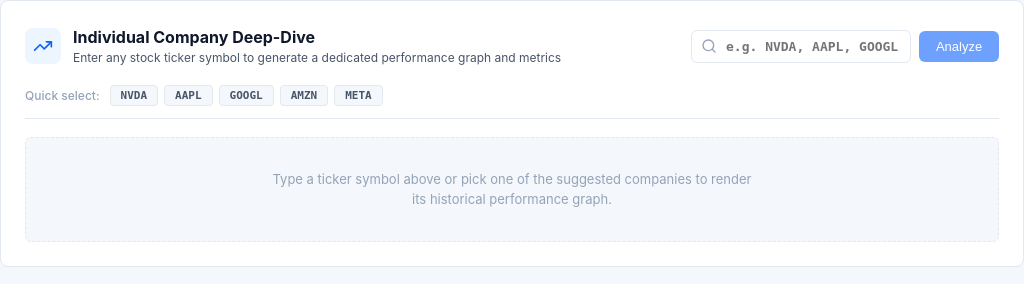
it: CustomCompanyExplorer › shows clear no-data error message when an invalid symbol is entered
Type "XYZNOTFOUND" into the field with placeholder "e.g. NVDA, AAPL, GOOGL". click: (801,46)
box: [691, 30, 911, 62]
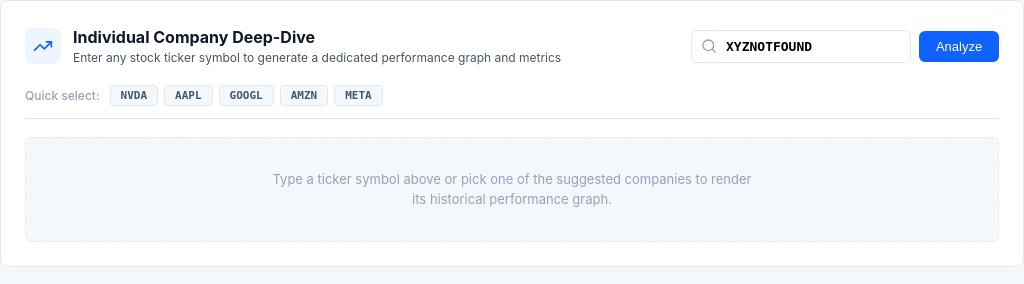
Click the button "Analyze". click: (959,46)
box: [919, 30, 999, 62]
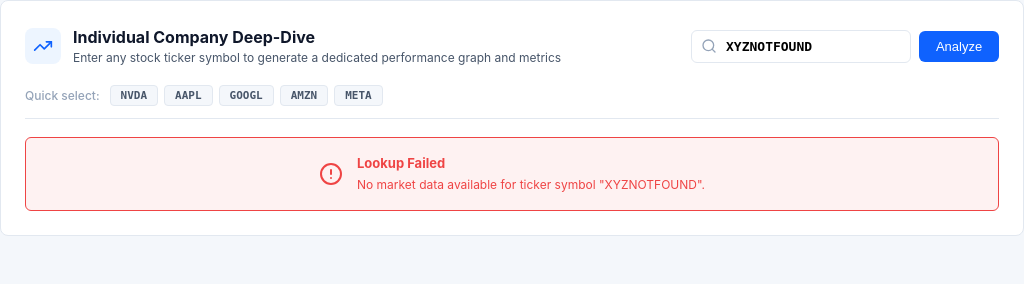
expect the message "Lookup Failed No market data available for ticker symbol \"XYZNOTFOUND\"." is shown: met, box [25, 137, 999, 210]
expect the text "No market data available for ticker symbol \"XYZNOTFOUND\"." is shown: met, box [357, 176, 705, 194]
